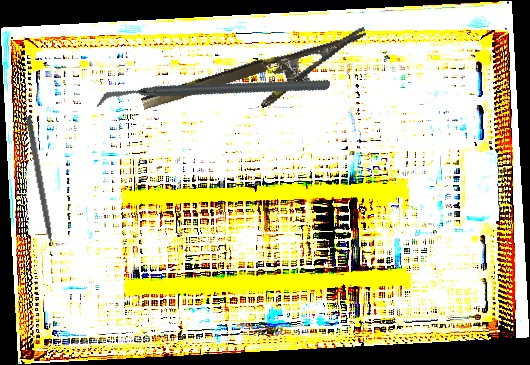Chopper: (93, 5, 332, 182)
Hook Surgical: (23, 115, 58, 261)
Needle Holder: (140, 26, 378, 142)
